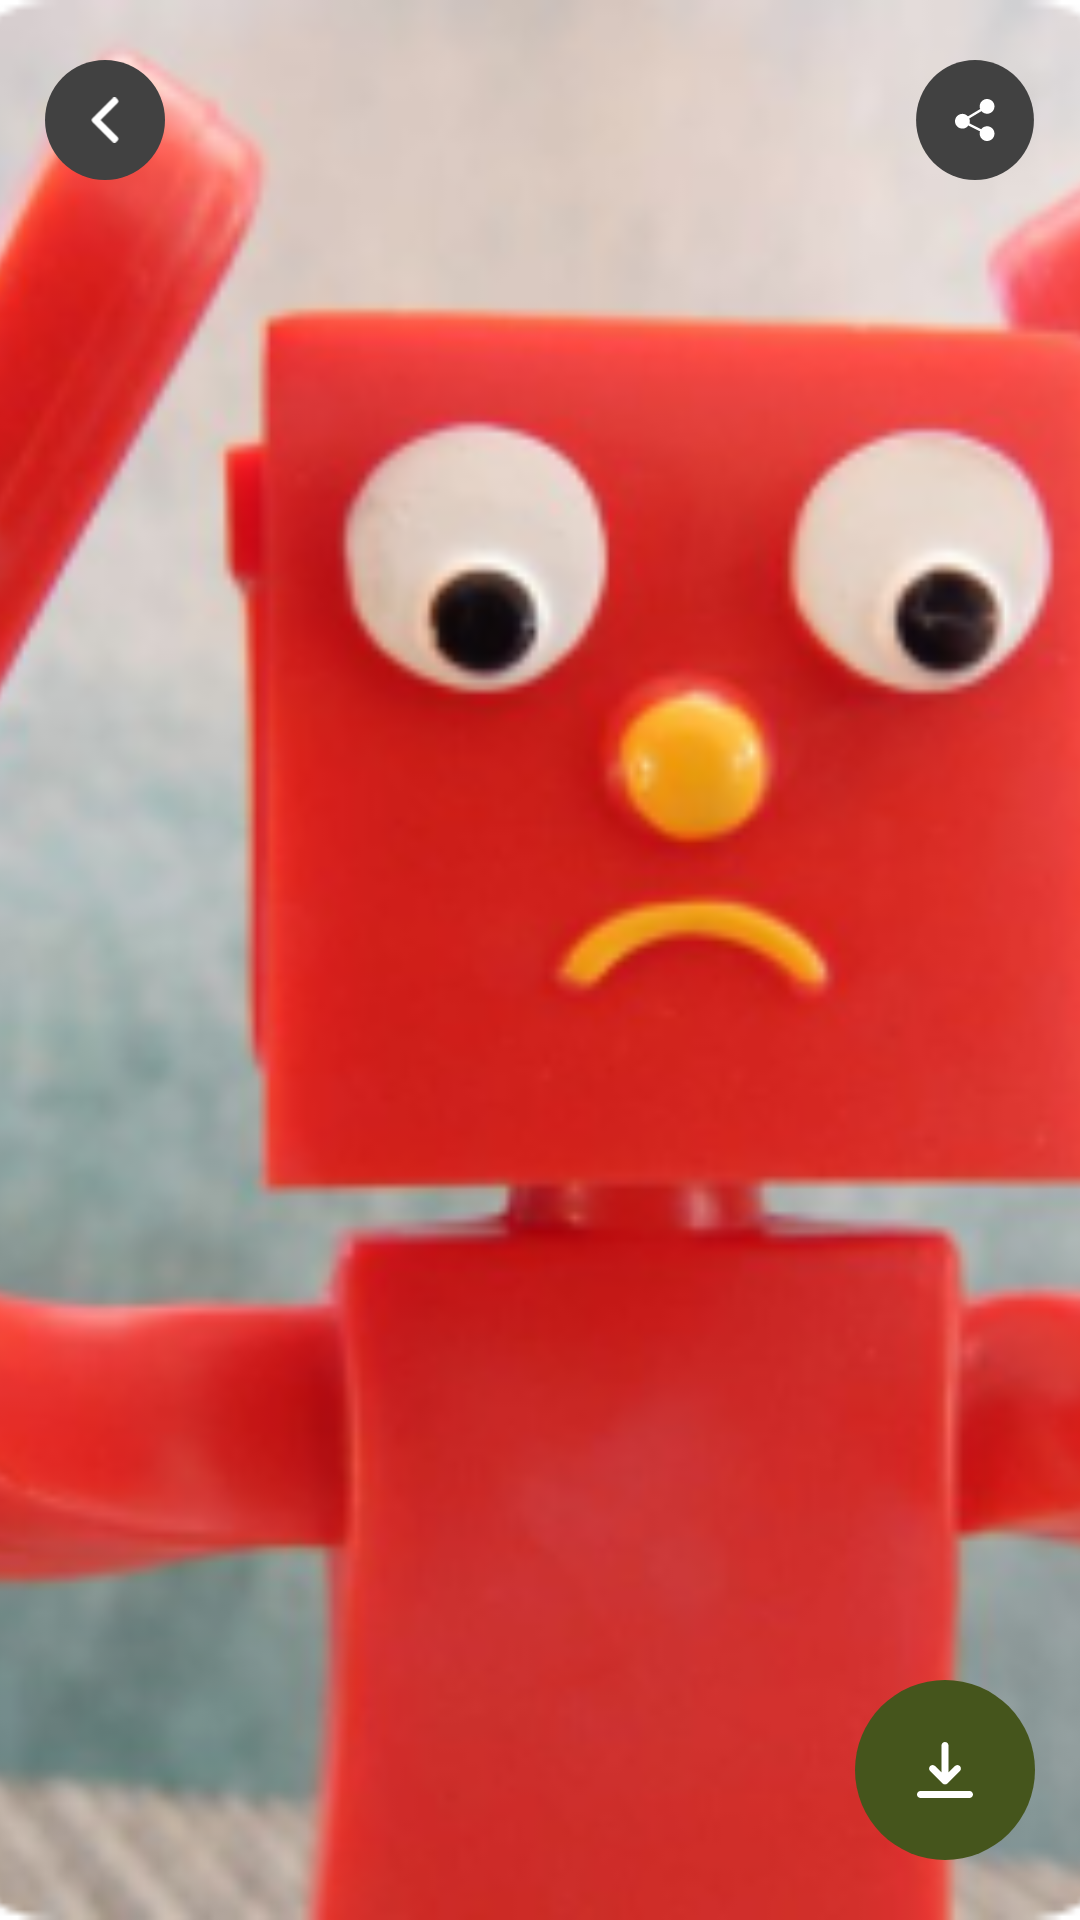

Icon click points for this 1080x1920 phone screenshot, format [x,y]:
back circular: [105,120]
download: [945,1770]
share circular: [975,120]
